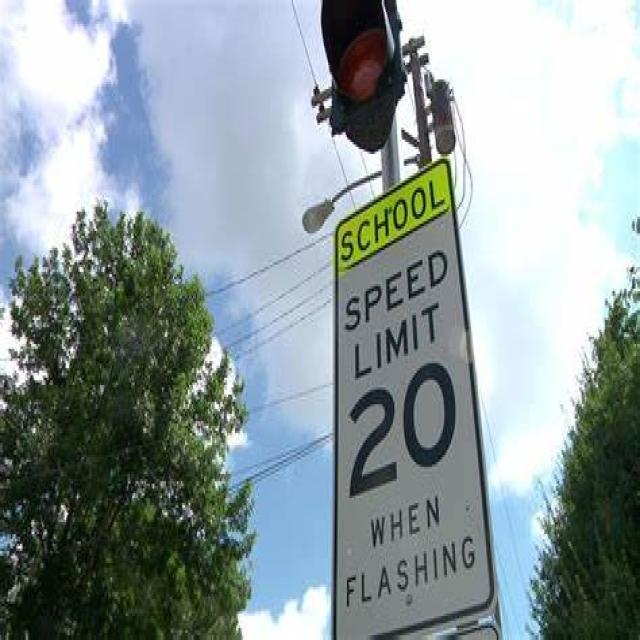speedLimit20: (333, 208, 493, 637)
